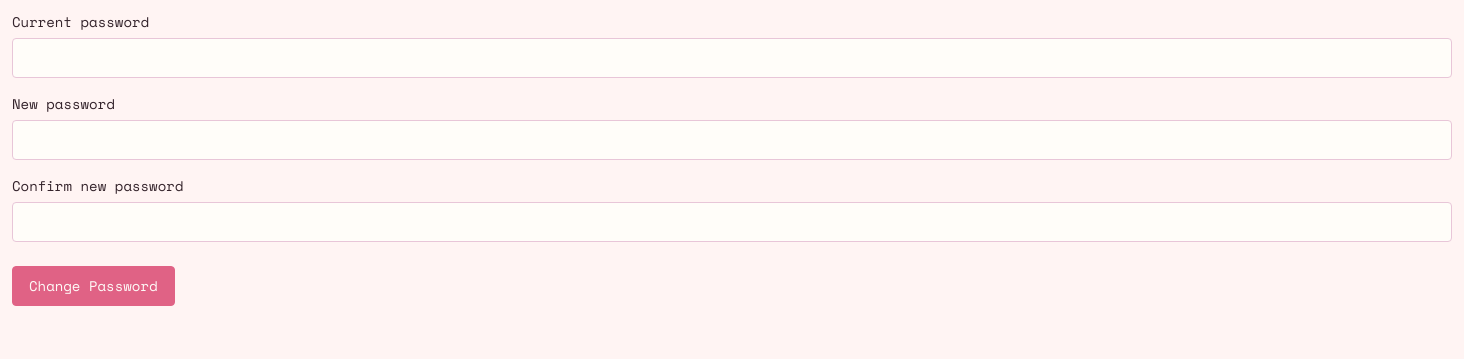
Scenario: ChangePasswordForm › shows a server error when the current password is incorrect
Type "wrong-password1" into the password field labelled "Current password" at (732, 58), box [12,38,1452,78]
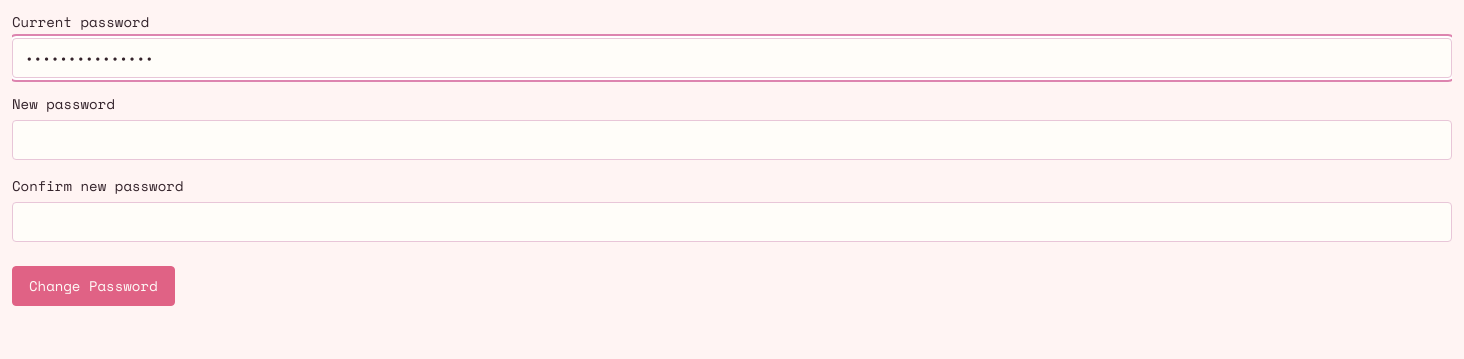
Type "new-password1" into the password field labelled "New password" at (732, 140), box [12,120,1452,160]
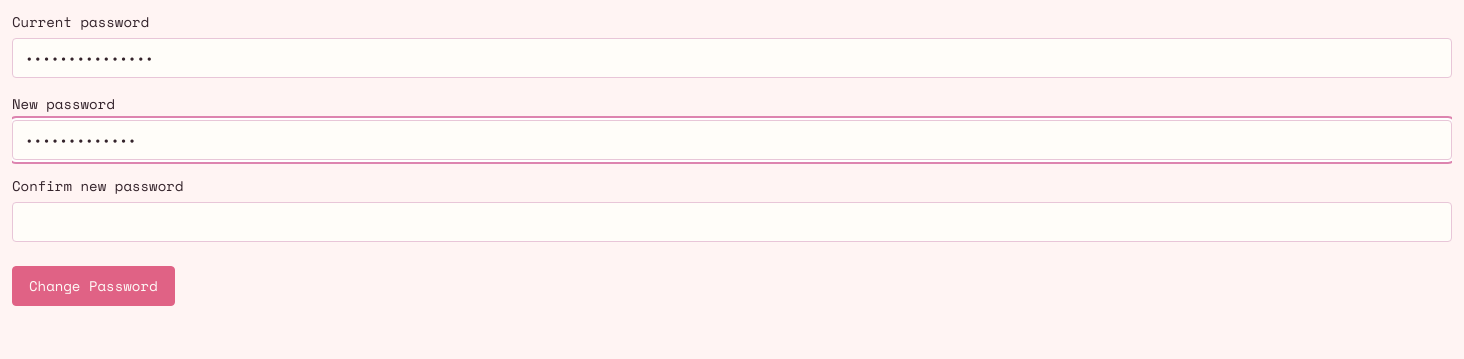
Type "new-password1" into the password field labelled "Confirm new password" at (732, 222), box [12,202,1452,242]
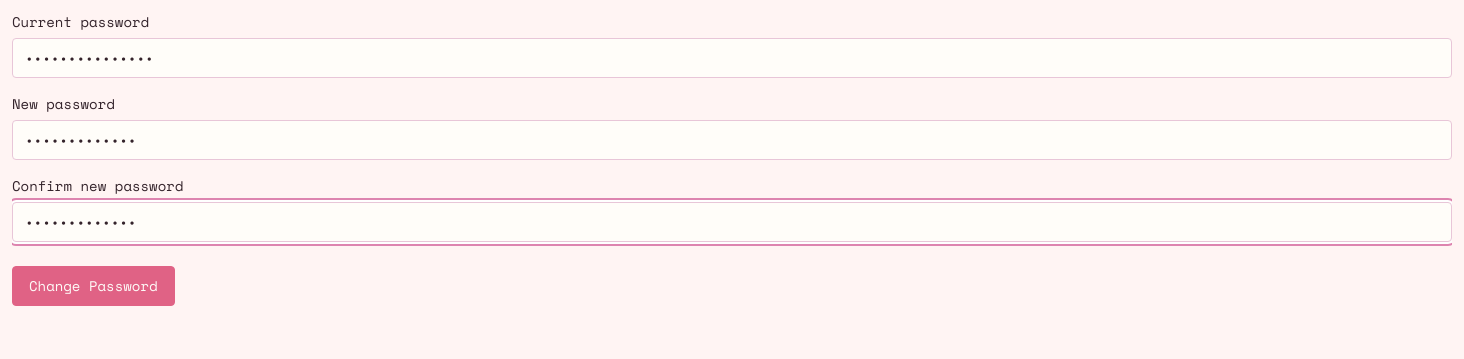
Click the button "Change Password" at (93, 286), box [12,266,174,306]
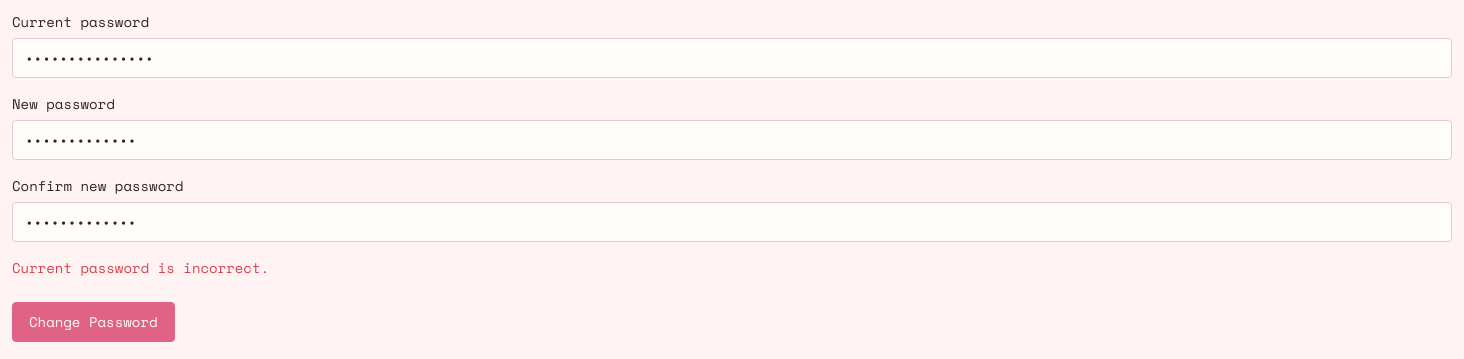
Check: the message reads "Current password is incorrect.", box [12,257,269,278]
